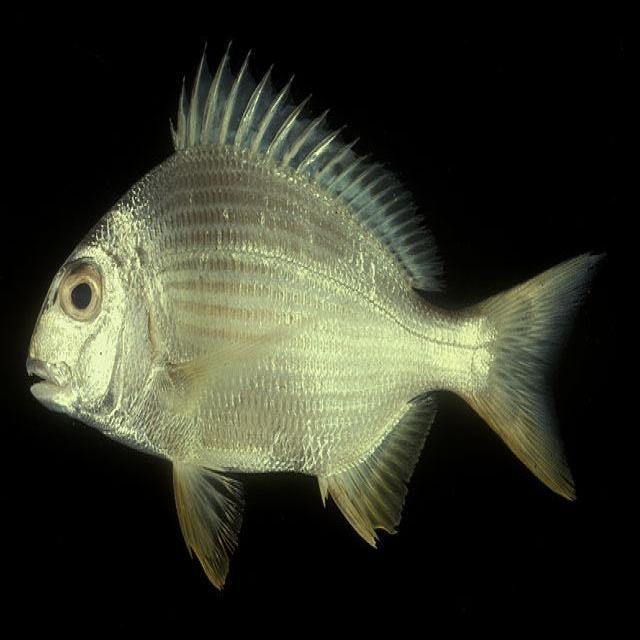ikan: (24, 37, 607, 591)
